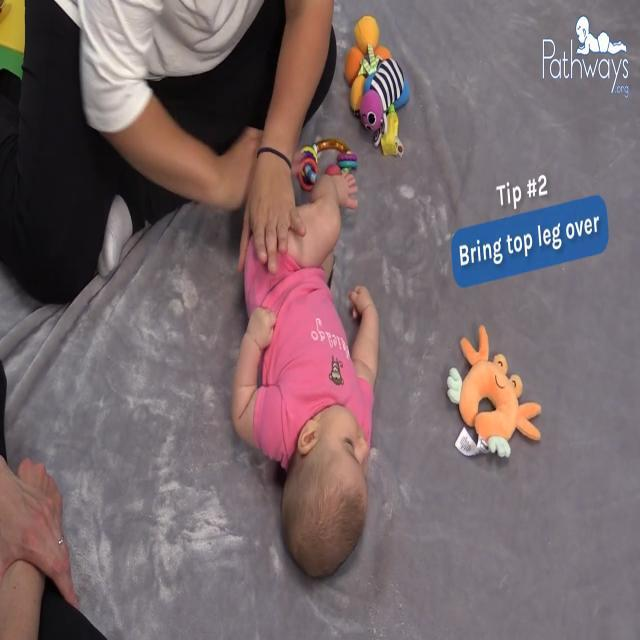baby: (228, 165, 400, 581)
